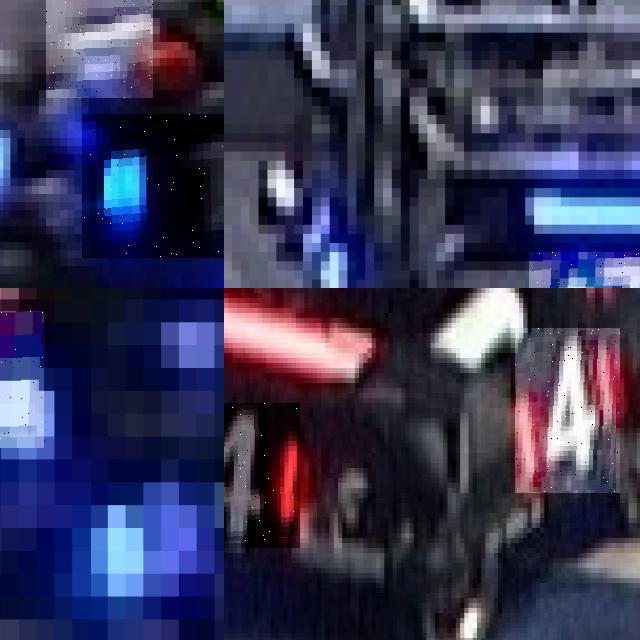B1: (81, 114, 224, 258), (46, 0, 152, 98)
B2: (529, 252, 640, 288)
R4: (515, 328, 620, 493), (224, 403, 300, 548)
